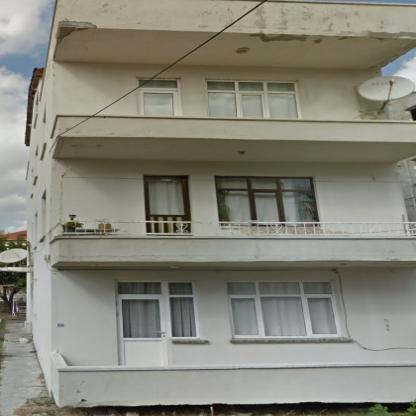door: (116, 298, 167, 366), (144, 174, 192, 233), (138, 80, 179, 116)
window: (227, 281, 339, 340), (216, 177, 321, 227), (115, 280, 196, 338), (208, 80, 299, 118)
